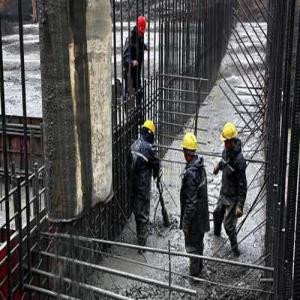red: (136, 15, 148, 41)
yellow: (222, 121, 238, 154), (182, 132, 199, 163), (141, 119, 157, 146)
